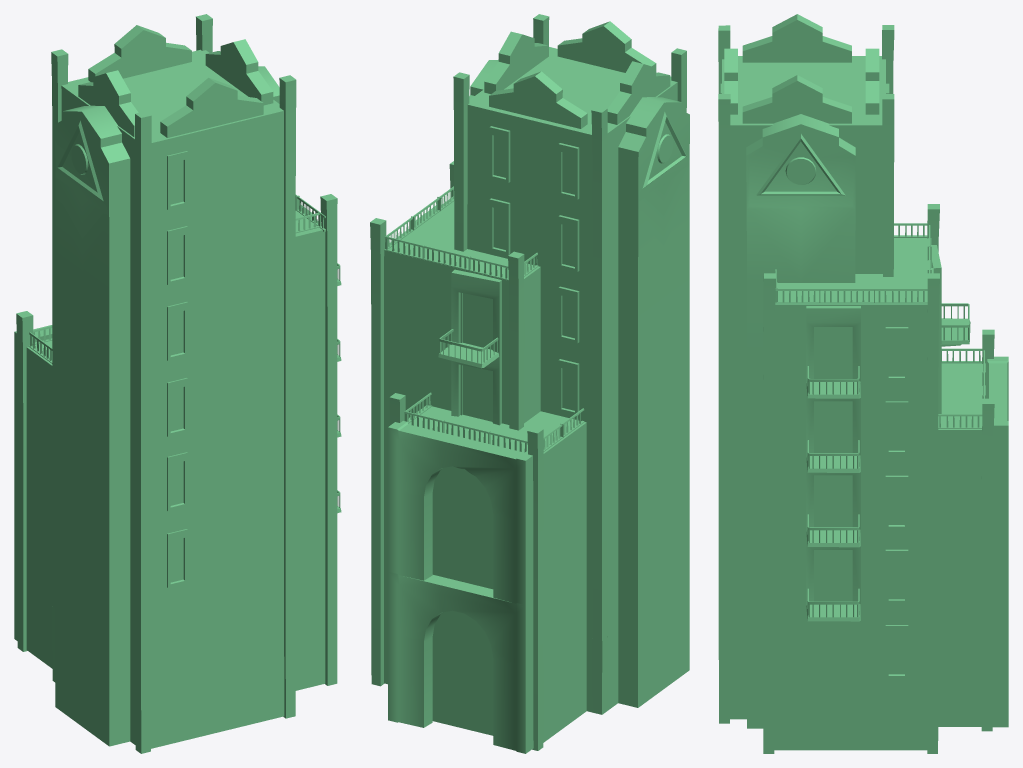
File: Bgr_Building8.fbx
3 renders of one model, left to right at view 1: azimuth 30°, elevation 25°; view 2: azimuth 150°, elevation 25°; view 3: azimuth 270°, elevation 25°, orthographic. The views are drawn at different scales.
Parts seen in each view (by area): view 1: Bgr_Building8; view 2: Bgr_Building8; view 3: Bgr_Building8.
Boxes of the visible parts, bbox=[...] form: Bgr_Building8: bbox=[14, 14, 341, 753]; Bgr_Building8: bbox=[370, 14, 689, 753]; Bgr_Building8: bbox=[718, 14, 1008, 753].
Size of the model in its own units: 1662 by 3867 by 1595.
